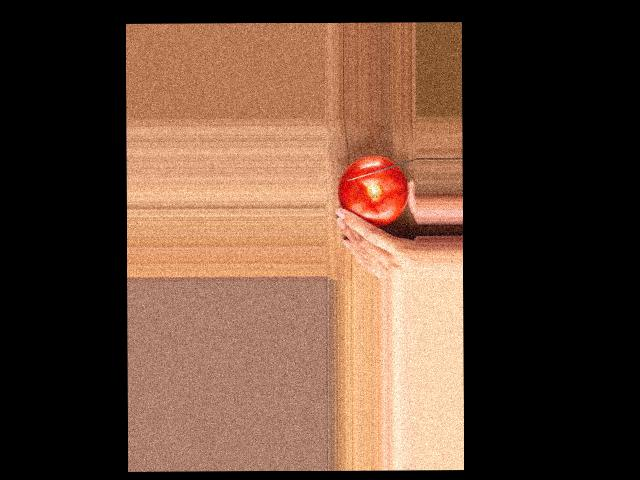tomato: (338, 156, 407, 227)
